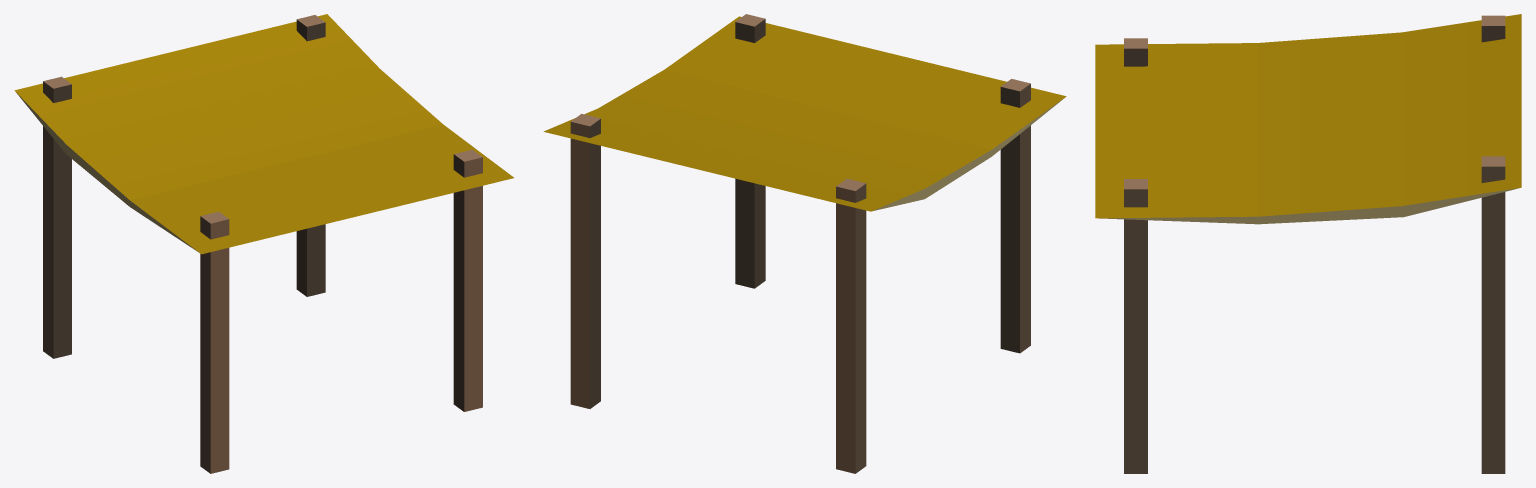
File: TB_D_Prop_StoreTent_Small_C.FBX
3 renders of one model, left to right at view 1: azimuth 30°, elevation 25°; view 2: azimuth 150°, elevation 25°; view 3: azimuth 270°, elevation 25°, orthographic. The views are drawn at different scales.
Parts seen in each view (by area): view 1: TB_D_Prop_StoreTent_Small_C; view 2: TB_D_Prop_StoreTent_Small_C; view 3: TB_D_Prop_StoreTent_Small_C.
Boxes of the visible parts, x1,y1,x2,y2 form: TB_D_Prop_StoreTent_Small_C: (14, 14, 513, 473); TB_D_Prop_StoreTent_Small_C: (543, 14, 1066, 473); TB_D_Prop_StoreTent_Small_C: (1095, 14, 1521, 473).
Size of the model in its own units: 2.33 by 1.92 by 2.41.
